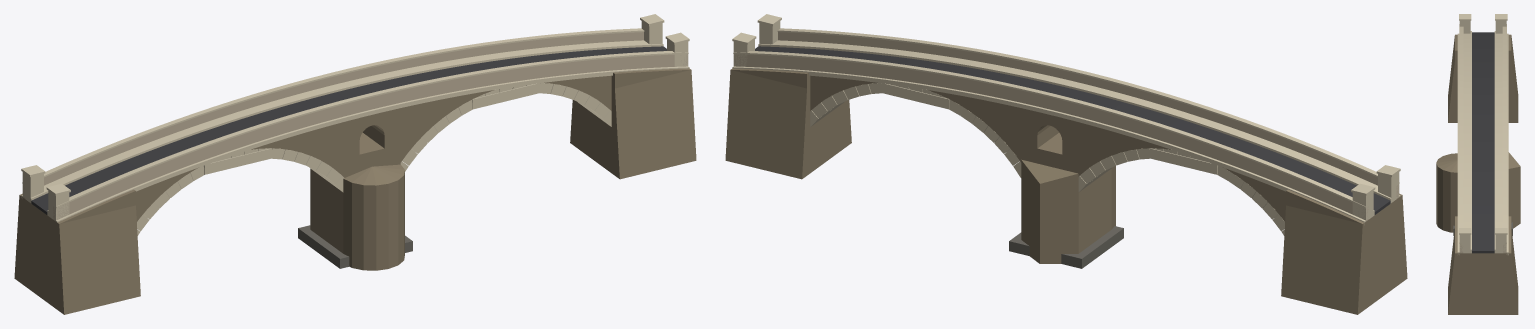
The model's file is rome_pons_fabricius.glb.
3 renders of one model, left to right at view 1: azimuth 30°, elevation 25°; view 2: azimuth 150°, elevation 25°; view 3: azimuth 270°, elevation 25°, orthographic. The views are drawn at different scales.
Parts seen in each view (by area): view 1: rome_pons_fabricius; view 2: rome_pons_fabricius; view 3: rome_pons_fabricius.
Part boxes in pixels (x1,y1,x2,y2): rome_pons_fabricius: [14, 14, 696, 314]; rome_pons_fabricius: [725, 14, 1407, 314]; rome_pons_fabricius: [1436, 14, 1520, 314].
Bounding box in the file's own units: 66.2 × 16.1 × 10.8.
